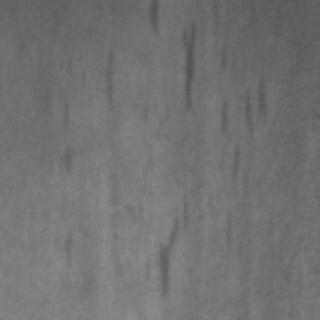inclusion: (214, 74, 278, 204), (132, 202, 192, 298), (170, 15, 206, 120), (96, 42, 124, 118), (139, 0, 163, 40), (52, 88, 72, 132), (58, 226, 76, 270), (56, 140, 74, 174)
